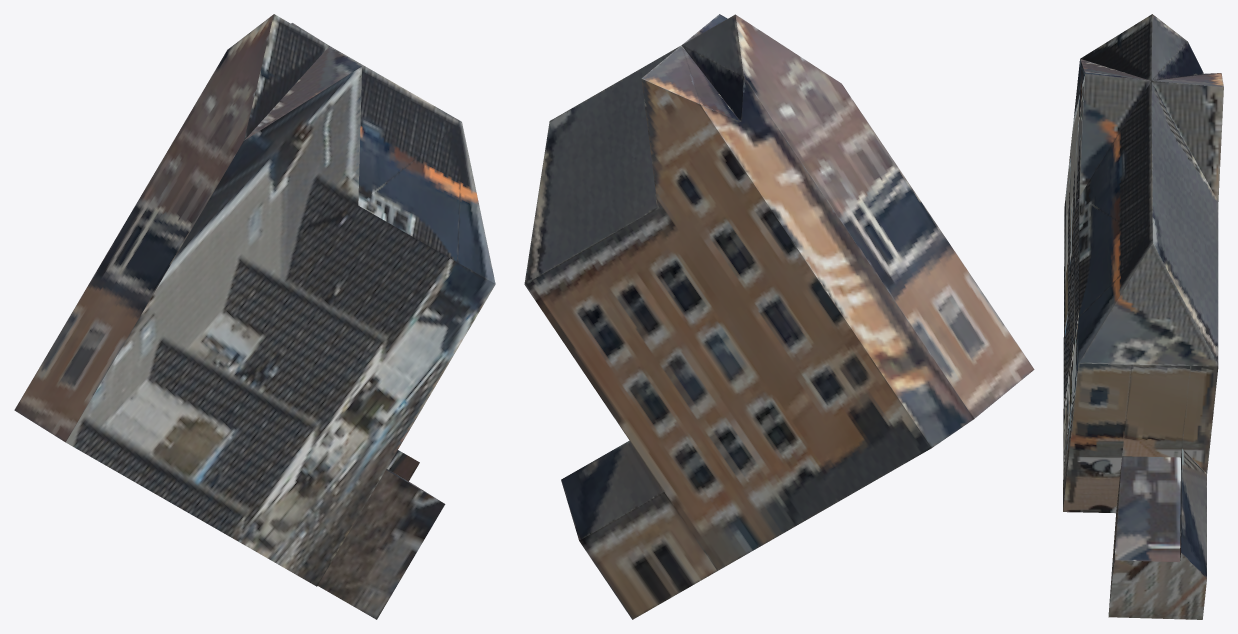
3 views of the same model, side by side, from view 1: azimuth 30°, elevation 25°; view 2: azimuth 150°, elevation 25°; view 3: azimuth 270°, elevation 25° (orthographic). The views are drawn at different scales.
Visible parts, largest first — view 1: BAG_0599100000671719 (×3); view 2: BAG_0599100000671719 (×4); view 3: BAG_0599100000671719 (×4).
Boxes of the visible parts, <box> form: BAG_0599100000671719 (×3): <box>14,14,495,619</box>; BAG_0599100000671719 (×4): <box>524,14,1034,619</box>; BAG_0599100000671719 (×4): <box>1063,14,1223,619</box>.
Size of the model in its own units: 19.64 by 25.89 by 6.62.
Materials: 1 (1 with a texture image).
